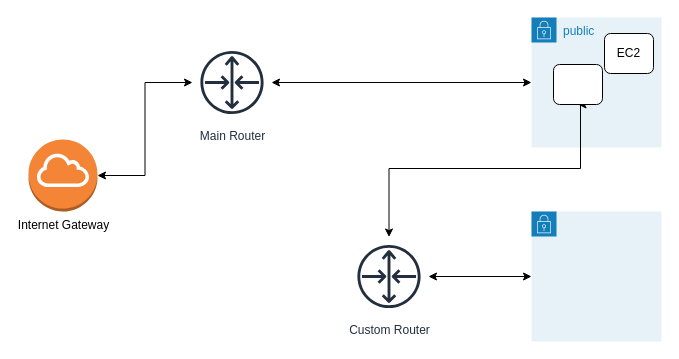
This 679x359 diagram has some shape labels left out. Each missing label, with the box of its shape:
NAT: (552, 64, 602, 104)
private: (530, 210, 662, 342)
